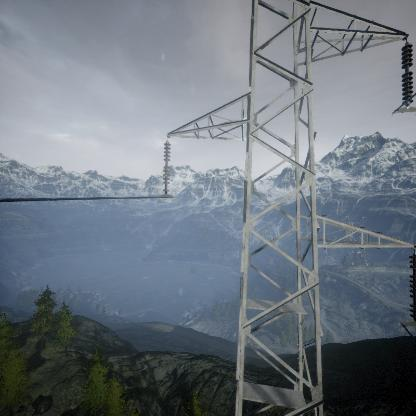insulator: (399, 41, 415, 107), (161, 140, 172, 194)
